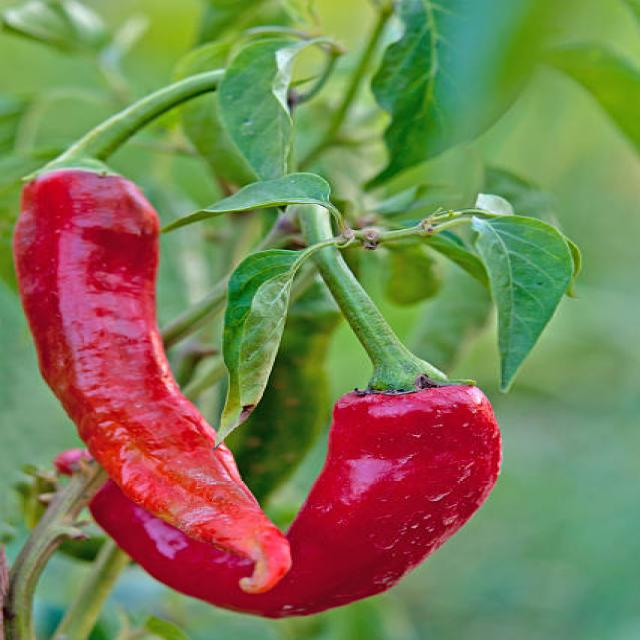Ripe: (21, 172, 291, 597), (92, 385, 500, 618)
